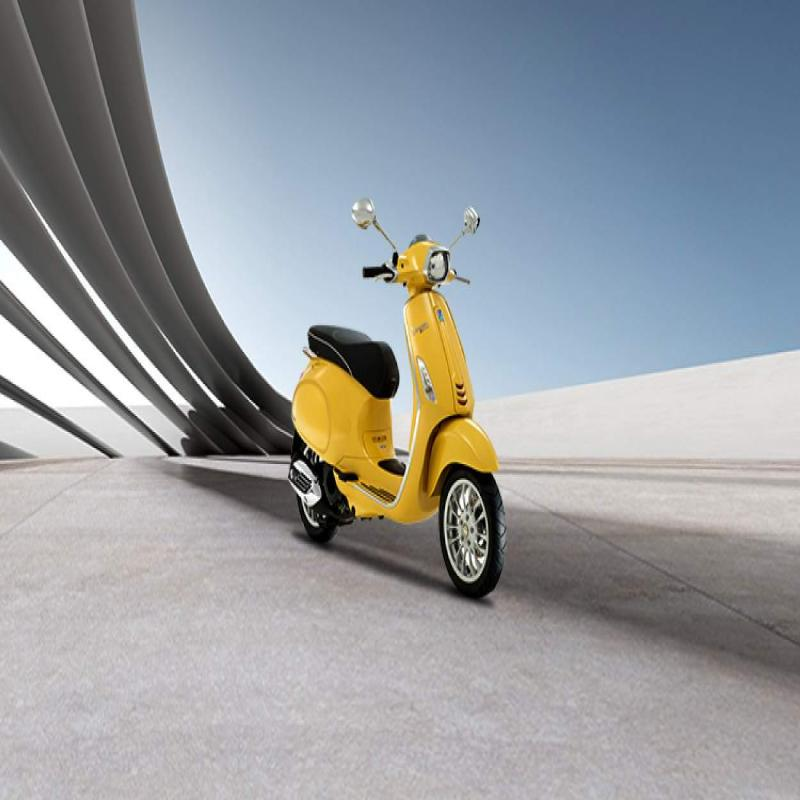bike: (282, 185, 521, 611)
